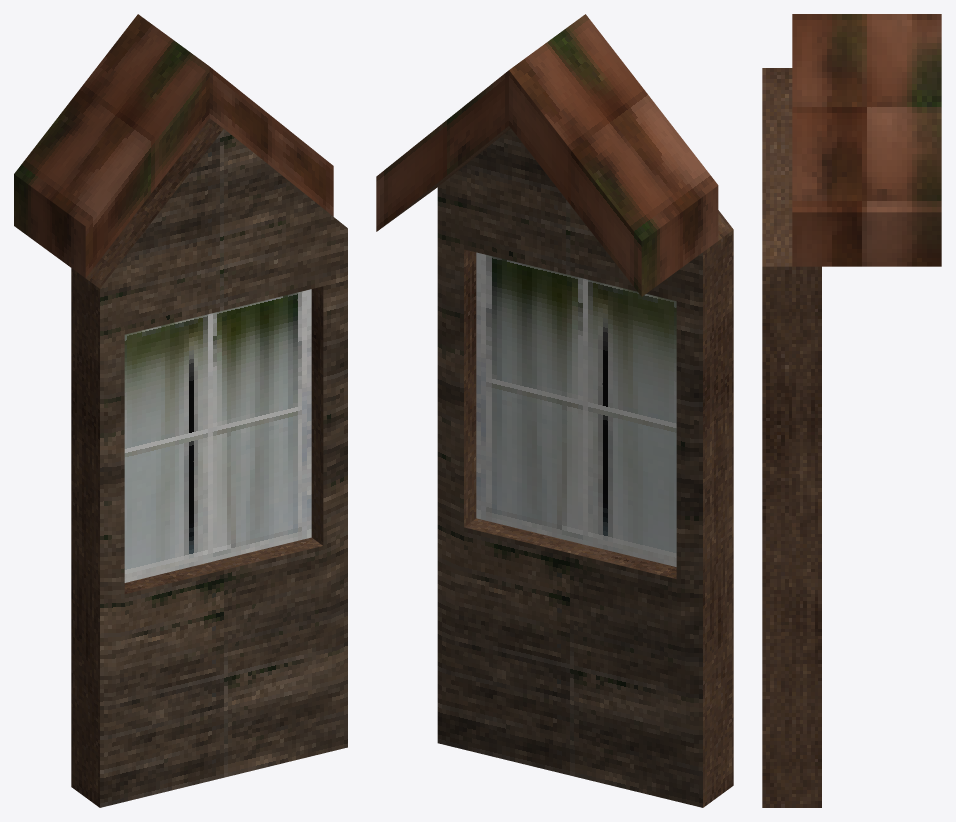
The model's file is roof_01_top_window_04.glb.
The picture shows the model from 3 angles, left to right: view 1: azimuth 30°, elevation 25°; view 2: azimuth 150°, elevation 25°; view 3: azimuth 270°, elevation 25°; orthographic projection. The views are drawn at different scales.
Parts seen in each view (by area): view 1: roof_01_top_window_042, window_attic_04_001; view 2: roof_01_top_window_042, window_attic_04_001; view 3: roof_01_top_window_042.
Boxes of the visible parts, left/top/right/bottom form: roof_01_top_window_042: left=14, top=14, right=347, bottom=807; window_attic_04_001: left=124, top=289, right=311, bottom=582; roof_01_top_window_042: left=376, top=14, right=733, bottom=807; window_attic_04_001: left=476, top=252, right=676, bottom=566; roof_01_top_window_042: left=762, top=14, right=941, bottom=807.
Size of the model in its own units: 1 by 2.7 by 0.6.
Materials: 2 (2 with a texture image).
